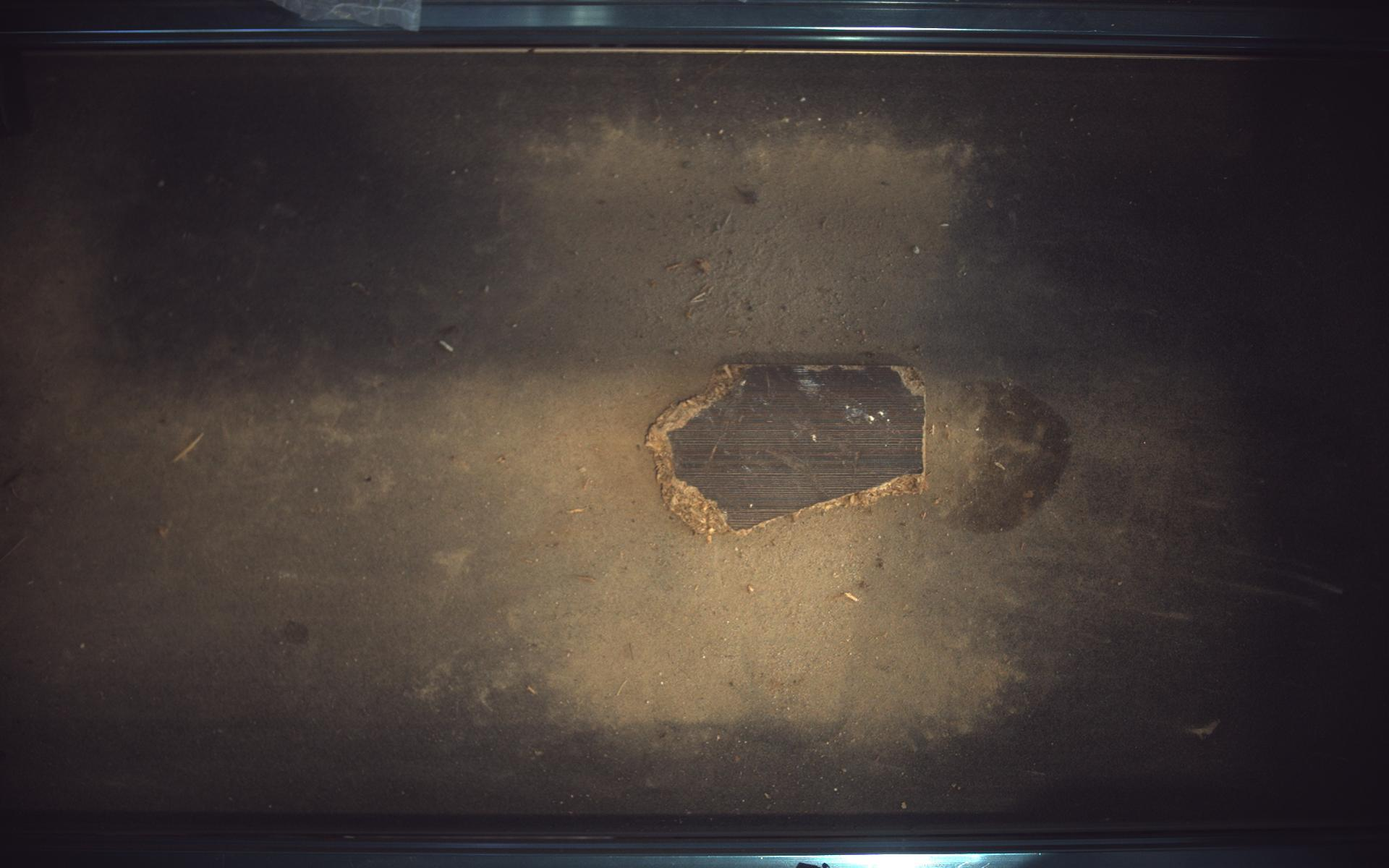wood: (647, 365, 928, 539)
